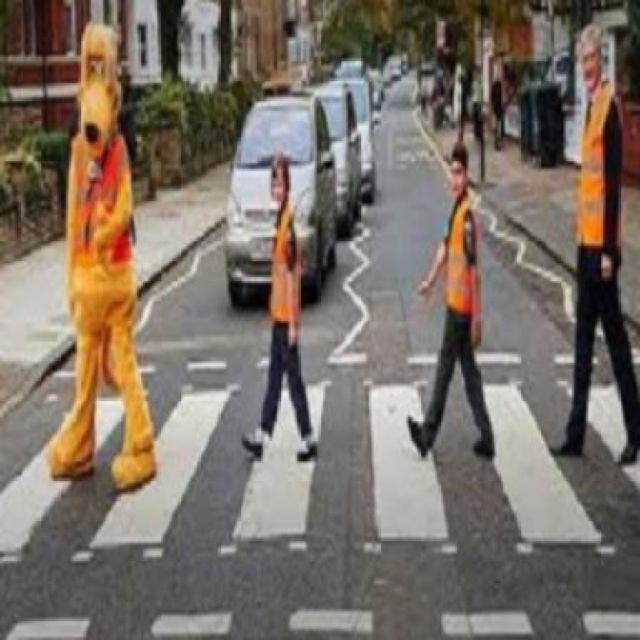Person: (554, 22, 638, 468), (407, 137, 499, 461), (241, 146, 322, 466)
